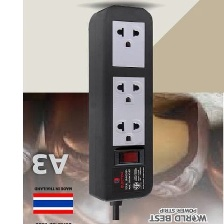three_eye_plug: (85, 1, 157, 206)
